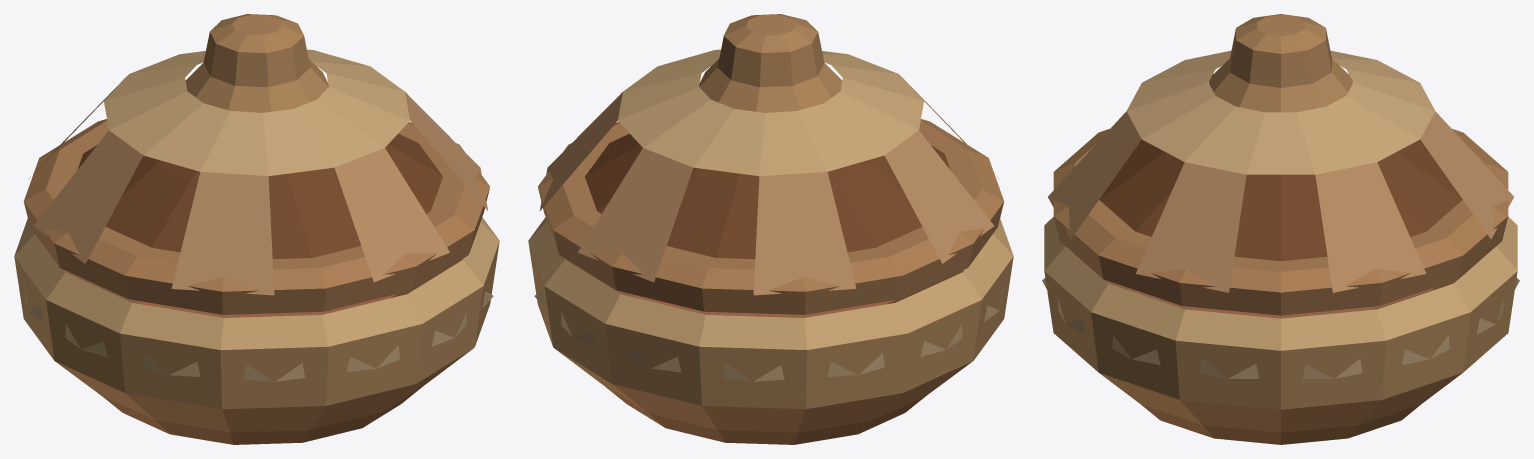
Rendered from ruinenstadt_09.glb.
3 views of the same model, side by side, from view 1: azimuth 30°, elevation 25°; view 2: azimuth 150°, elevation 25°; view 3: azimuth 270°, elevation 25° (orthographic).
Parts seen in each view (by area): view 1: ruinenstadt_09; view 2: ruinenstadt_09; view 3: ruinenstadt_09.
Part boxes in pixels (<box>): ruinenstadt_09: <box>14,14,499,444</box>; ruinenstadt_09: <box>528,14,1013,444</box>; ruinenstadt_09: <box>1042,14,1519,444</box>.
Bounding box in the file's own units: 2 × 1.61 × 1.97.
